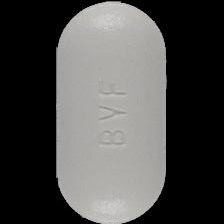53808-0757: (0, 0, 224, 224)
